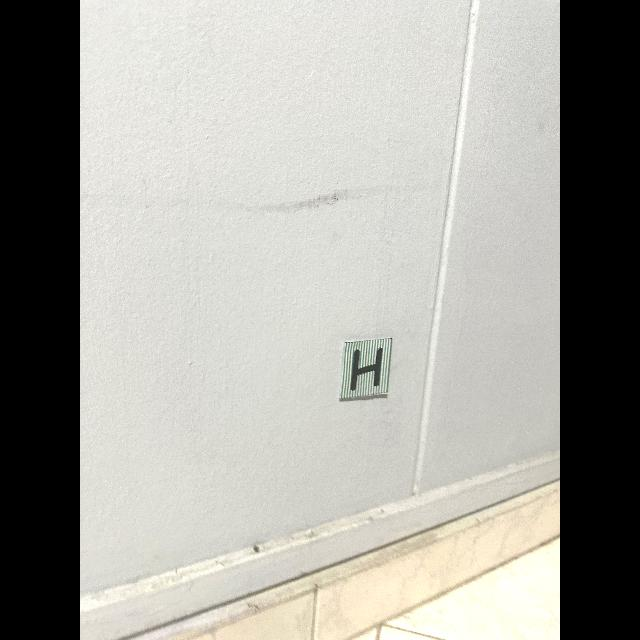H: (350, 348, 383, 390)
